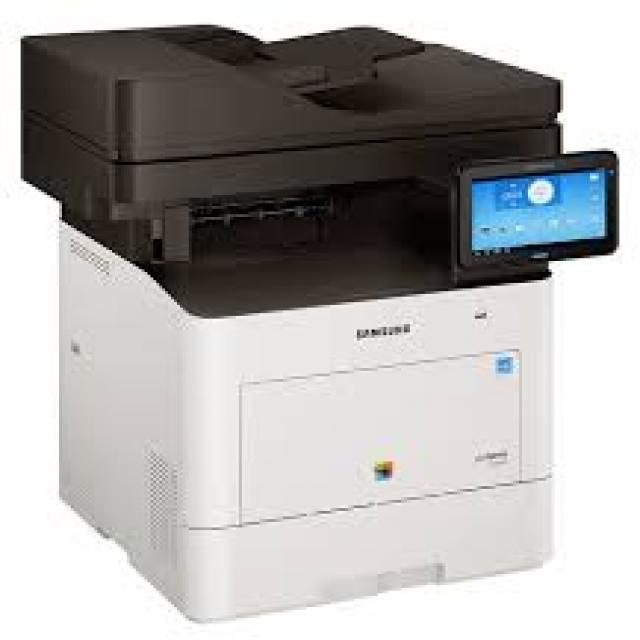printer: (21, 24, 620, 624)
